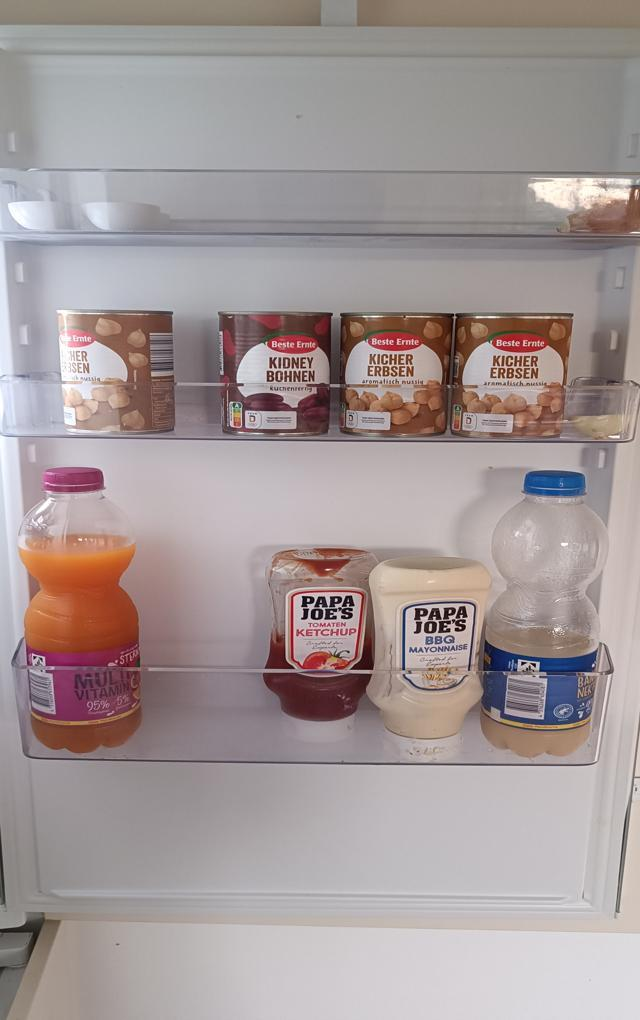bananajuice: (484, 468, 607, 761)
chickpeas: (57, 307, 177, 435), (456, 312, 571, 438), (342, 311, 452, 438)
kidneybeans: (220, 309, 330, 438)
mayoniasie: (369, 552, 488, 764)
orangejuice: (21, 463, 143, 756)
tomatoketchup: (261, 545, 379, 744)
